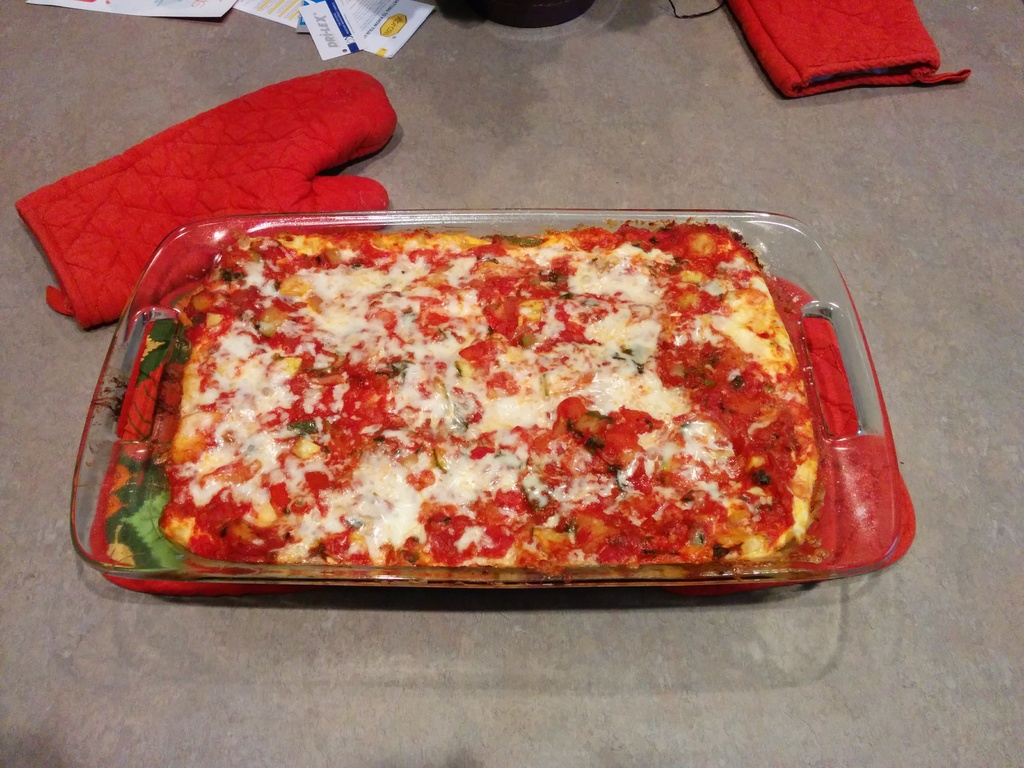Pizza: (160, 211, 824, 556)
